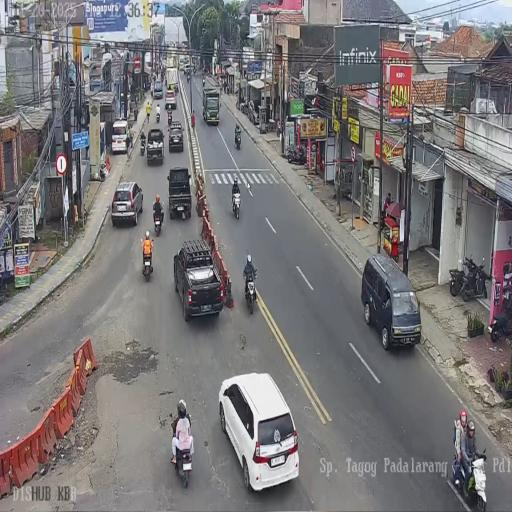3: (202, 86, 220, 126), (165, 53, 178, 76), (144, 52, 152, 73), (179, 55, 187, 71)
car: (218, 373, 298, 491), (358, 253, 420, 350), (174, 239, 224, 321), (111, 179, 144, 226), (167, 166, 192, 219), (110, 119, 130, 155), (146, 128, 165, 164), (168, 121, 184, 152), (152, 79, 164, 100), (164, 90, 176, 110)
truck: (488, 291, 512, 342), (449, 256, 471, 296), (244, 266, 258, 314), (140, 240, 154, 279), (287, 144, 306, 165), (232, 188, 242, 220), (153, 209, 163, 236), (234, 128, 242, 150), (240, 98, 249, 116), (140, 132, 146, 155), (276, 121, 282, 138), (133, 104, 138, 123), (167, 110, 172, 128), (156, 108, 160, 123), (174, 83, 179, 95), (146, 110, 150, 123), (202, 76, 205, 88), (192, 66, 196, 74), (187, 73, 190, 83), (201, 68, 204, 78)
